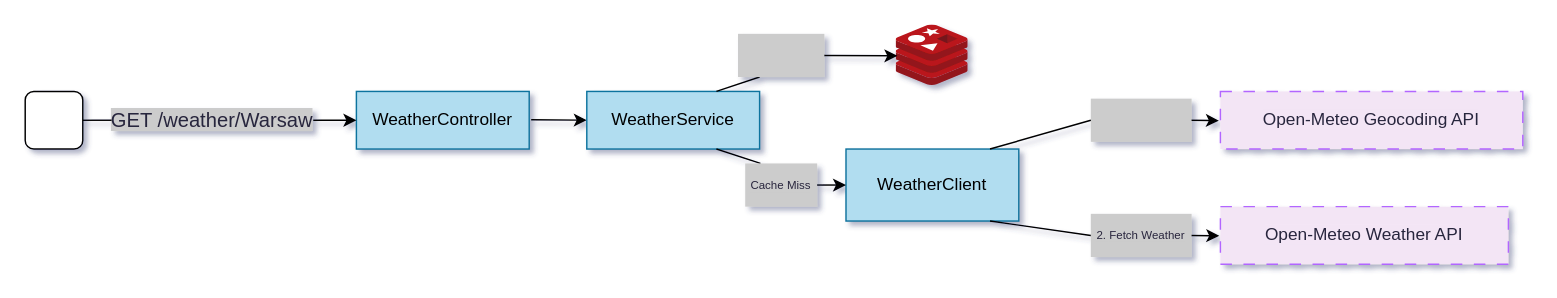
Some shapes in this 1557 by 298 pixel diagram are drawn without their labels. The shapes that lost their labels are listed below. From the top down, each one's centre as x and y in pixels, then its label:
At [780,54]: "Check Cache".
At [53,119]: "User".
At [1140,119]: "1. Geocode City".
